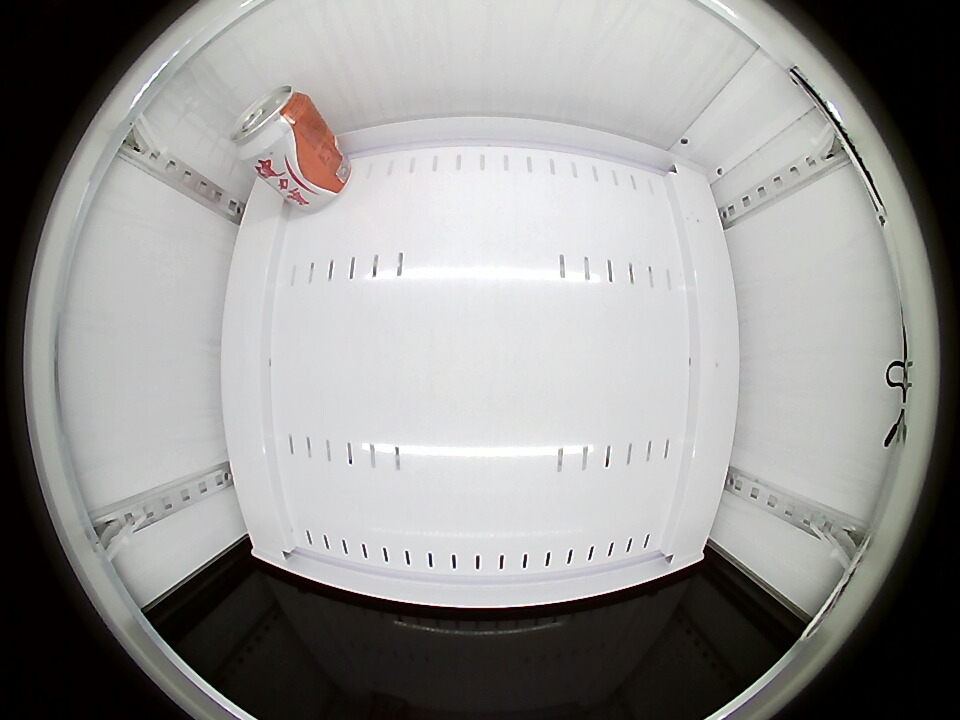jianlibao: (231, 86, 312, 166)
